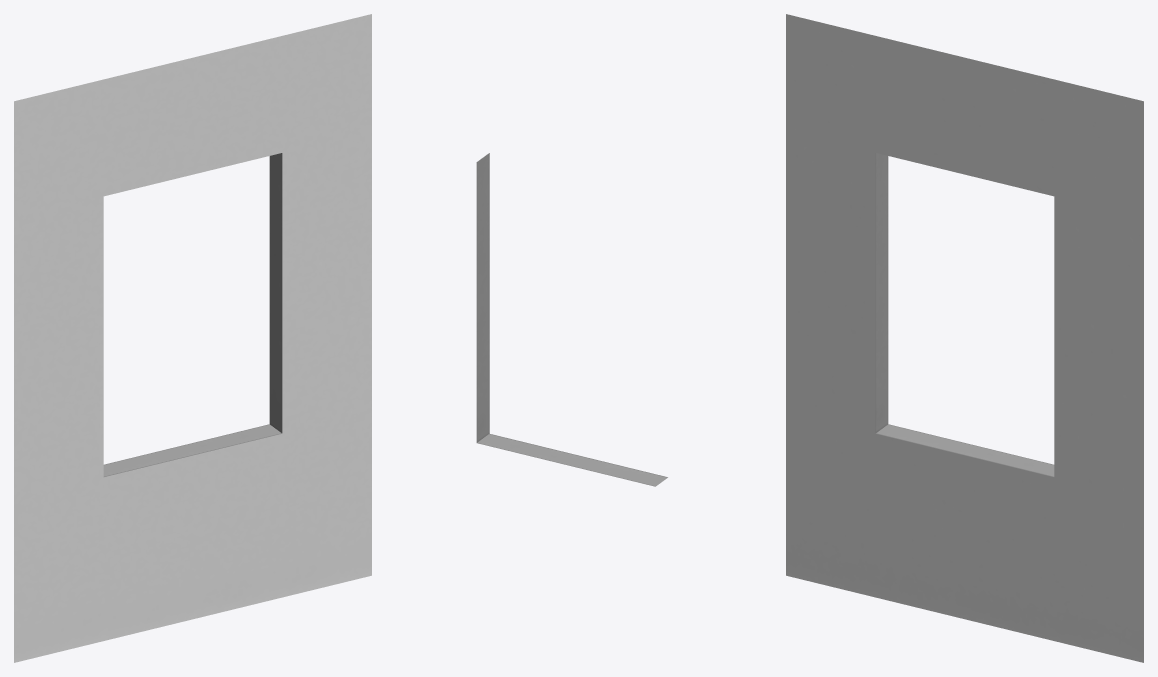
File: Wall2x3Win1x1_5Vert.gltf
3 views of the same model, side by side, from view 1: azimuth 30°, elevation 25°; view 2: azimuth 150°, elevation 25°; view 3: azimuth 330°, elevation 25° (orthographic).
Parts seen in each view (by area): view 1: Wall2x3Win1x1_5VertShape; view 2: Wall2x3Win1x1_5VertShape; view 3: Wall2x3Win1x1_5VertShape.
Part boxes in pixels (<box>): Wall2x3Win1x1_5VertShape: <box>14,14,371,662</box>; Wall2x3Win1x1_5VertShape: <box>476,153,667,486</box>; Wall2x3Win1x1_5VertShape: <box>786,14,1143,662</box>.
Bounding box in the file's own units: 2 × 3 × 0.125.
Materials: 1 (1 with a texture image).
